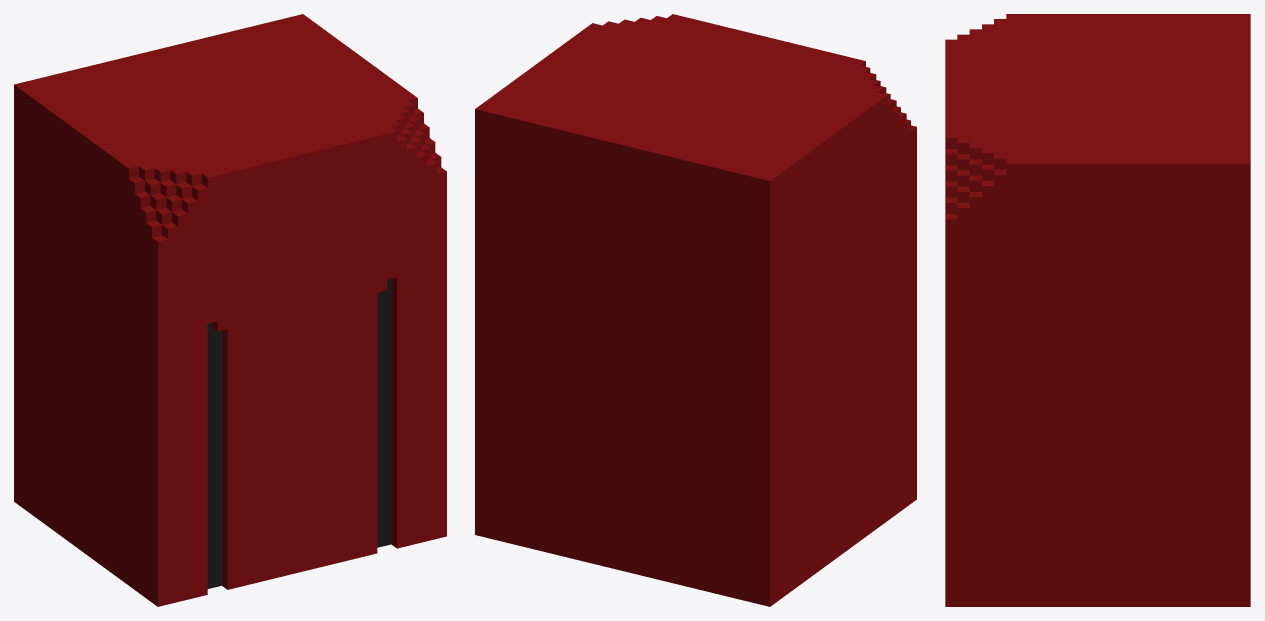
The model's file is Requester-4.obj.
The picture shows the model from 3 angles, left to right: view 1: azimuth 30°, elevation 25°; view 2: azimuth 150°, elevation 25°; view 3: azimuth 270°, elevation 25°; orthographic projection. The views are drawn at different scales.
Size of the model in its own units: 2.9 by 4 by 2.5.
Materials: 1 (1 with a texture image).
